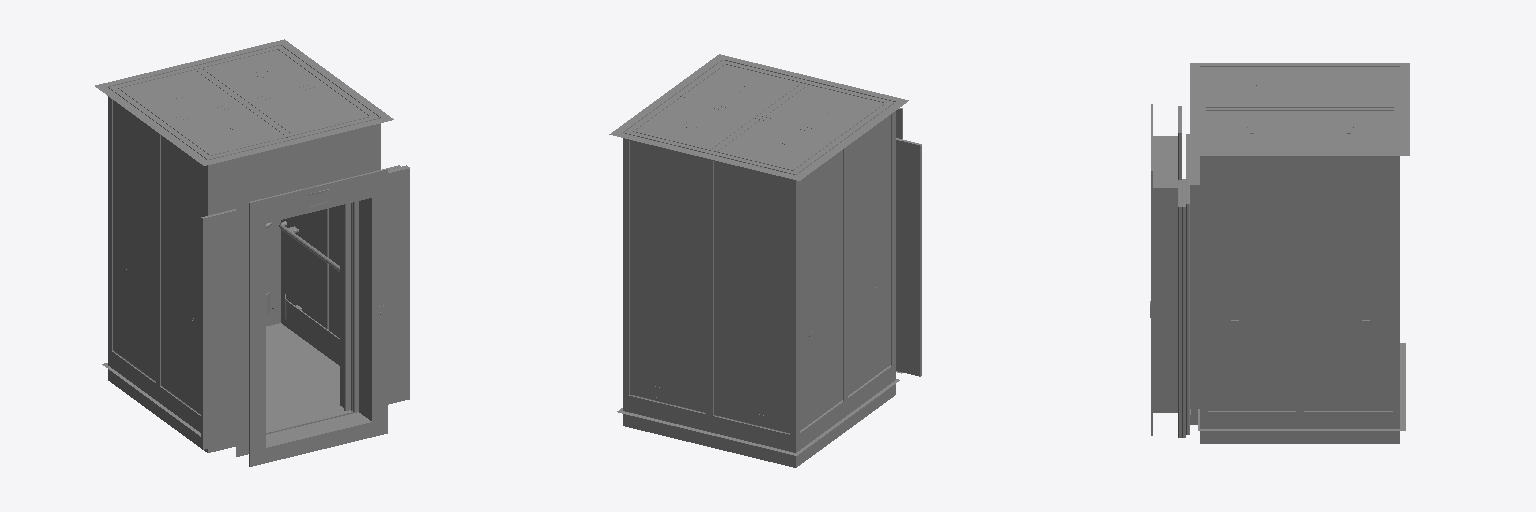
The model's file is Sketchfab.unity_44.obj.
The picture shows the model from 3 angles: view 1: azimuth 30°, elevation 25°; view 2: azimuth 150°, elevation 25°; view 3: azimuth 270°, elevation 25°; orthographic projection.
Parts seen in each view (by area): view 1: elevator, elevHallFrame, elevFrameDoorL, elevFramDoorR, elevDoorInner, elevFootGuardL; view 2: elevator, elevFrameDoorL; view 3: elevator, elevHallFrame, elevDoorOuter, elevDoorInner, elevFramDoorR.
Part boxes in pixels (bbox=[...]): elevator: bbox=[95, 39, 393, 452]; elevHallFrame: bbox=[236, 160, 387, 466]; elevFrameDoorL: bbox=[201, 209, 235, 449]; elevFramDoorR: bbox=[353, 167, 409, 412]; elevDoorInner: bbox=[344, 165, 400, 410]; elevFootGuardL: bbox=[285, 294, 339, 358]; elevator: bbox=[609, 54, 908, 467]; elevFrameDoorL: bbox=[896, 138, 921, 376]; elevator: bbox=[1186, 63, 1409, 443]; elevHallFrame: bbox=[1151, 104, 1177, 435]; elevDoorOuter: bbox=[1182, 179, 1185, 437]; elevDoorInner: bbox=[1186, 177, 1189, 434]; elevFramDoorR: bbox=[1178, 180, 1181, 437].
Bounding box in the file's own units: 2.19 × 2.97 × 2.39.